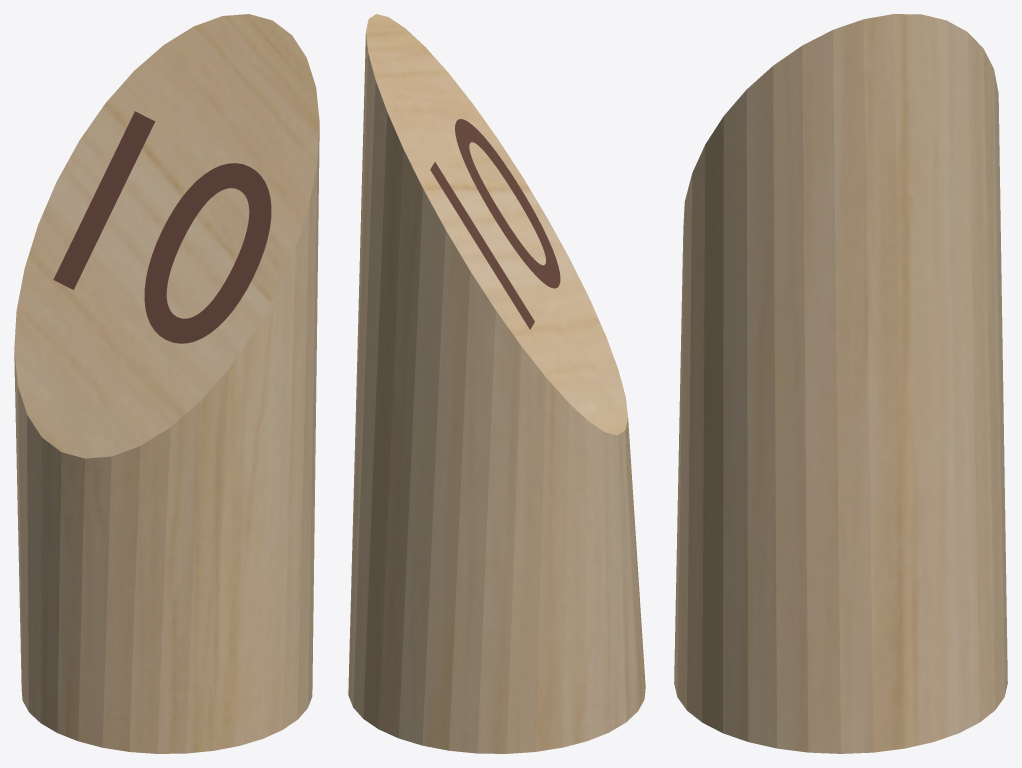
Rendered from pin10.glb.
3 views of the same model, side by side, from view 1: azimuth 30°, elevation 25°; view 2: azimuth 150°, elevation 25°; view 3: azimuth 270°, elevation 25° (orthographic). The views are drawn at different scales.
Visible parts, largest first — view 1: 円柱.004; view 2: 円柱.004; view 3: 円柱.004.
Boxes of the visible parts, x1,y1,x2,y2 form: 円柱.004: (14, 14, 319, 753); 円柱.004: (348, 14, 645, 753); 円柱.004: (674, 14, 1007, 753).
Size of the model in its own units: 1.16 by 2.79 by 1.16.
Materials: 2 (1 with a texture image).
